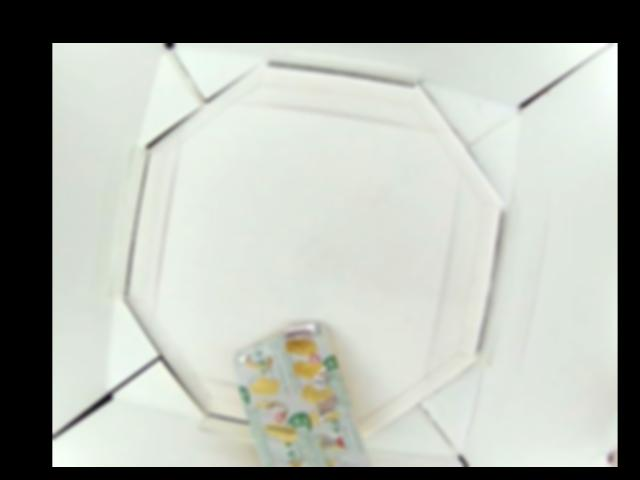Medicine: (233, 321, 368, 466)
